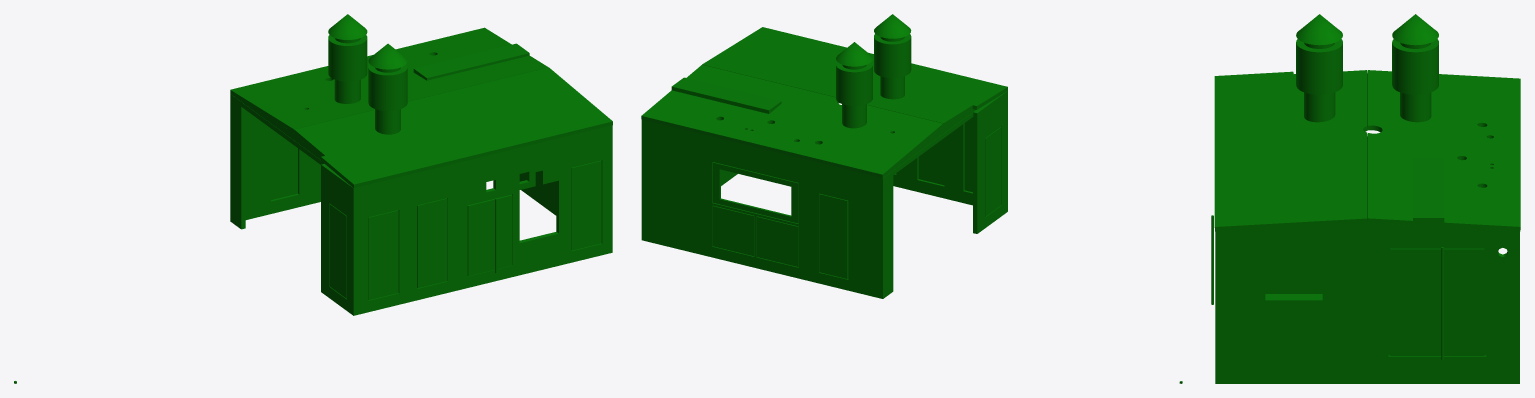
Rendered from Image-1710907725053-2280980356464_27-KA50ENCLOSURE_COMPRESSOR.fbx.
3 views of the same model, side by side, from view 1: azimuth 30°, elevation 25°; view 2: azimuth 150°, elevation 25°; view 3: azimuth 270°, elevation 25° (orthographic). The views are drawn at different scales.
Visible parts, largest first — view 1: BOX 8 of SUBEQUIPMENT /27-KA50/ENCLOSURE_WALLS, BOX 13 of SUBEQUIPMENT /27-KA50/ENCLOSURE_WALLS, BOX 12 of SUBEQUIPMENT /27-KA50/ENCLOSURE_WALLS, BOX 7 of SUBEQUIPMENT /27-KA50/ENCLOSURE_WALLS, BOX 21 of SUBEQUIPMENT /27-KA50/ENCLOSURE_WALLS, BOX 6 of SUBEQUIPMENT /27-KA50/ENCLOSURE_WALLS, BOX 19 of SUBEQUIPMENT /27-KA50/ENCLOSURE_WALLS, BOX 18 of SUBEQUIPMENT /27-KA50/ENCLOSURE_WALLS, BOX 20 of SUBEQUIPMENT /27-KA50/ENCLOSURE_WALLS, BOX 9 of SUBEQUIPMENT /27-KA50/ENCLOSURE_WALLS, BOX 5 of SUBEQUIPMENT /27-KA50/ENCLOSURE_WALLS, CYLINDER 3 of SUBEQUIPMENT /27-KA50/ENCLOSURE_FAN2 (+9 smaller); view 2: BOX 7 of SUBEQUIPMENT /27-KA50/ENCLOSURE_WALLS, BOX 12 of SUBEQUIPMENT /27-KA50/ENCLOSURE_WALLS, BOX 13 of SUBEQUIPMENT /27-KA50/ENCLOSURE_WALLS, BOX 8 of SUBEQUIPMENT /27-KA50/ENCLOSURE_WALLS, BOX 6 of SUBEQUIPMENT /27-KA50/ENCLOSURE_WALLS, BOX 17 of SUBEQUIPMENT /27-KA50/ENCLOSURE_WALLS, BOX 9 of SUBEQUIPMENT /27-KA50/ENCLOSURE_WALLS, BOX 14 of SUBEQUIPMENT /27-KA50/ENCLOSURE_WALLS, BOX 16 of SUBEQUIPMENT /27-KA50/ENCLOSURE_WALLS, BOX 5 of SUBEQUIPMENT /27-KA50/ENCLOSURE_WALLS, BOX 15 of SUBEQUIPMENT /27-KA50/ENCLOSURE_WALLS, CYLINDER 3 of SUBEQUIPMENT /27-KA50/ENCLOSURE_FAN2 (+10 smaller); view 3: BOX 1 of SUBEQUIPMENT /27-KA50/ENCLOSURE_WALLS, BOX 13 of SUBEQUIPMENT /27-KA50/ENCLOSURE_WALLS, BOX 12 of SUBEQUIPMENT /27-KA50/ENCLOSURE_WALLS, BOX 2 of SUBEQUIPMENT /27-KA50/ENCLOSURE_WALLS, BOX 4 of SUBEQUIPMENT /27-KA50/ENCLOSURE_WALLS, CYLINDER 3 of SUBEQUIPMENT /27-KA50/ENCLOSURE_FAN, CYLINDER 3 of SUBEQUIPMENT /27-KA50/ENCLOSURE_FAN2, BOX 5 of SUBEQUIPMENT /27-KA50/ENCLOSURE_WALLS, PYRAMID 2 of SUBEQUIPMENT /27-KA50/ENCLOSURE_WALLS, CONE 1 of SUBEQUIPMENT /27-KA50/ENCLOSURE_FAN, CONE 1 of SUBEQUIPMENT /27-KA50/ENCLOSURE_FAN2, CYLINDER 1 of SUBEQUIPMENT /27-KA50/ENCLOSURE_FAN (+4 smaller).
Part boxes in pixels (left/top/right/bottom): BOX 8 of SUBEQUIPMENT /27-KA50/ENCLOSURE_WALLS: left=351, top=126, right=612, bottom=315; BOX 13 of SUBEQUIPMENT /27-KA50/ENCLOSURE_WALLS: left=294, top=67, right=612, bottom=188; BOX 12 of SUBEQUIPMENT /27-KA50/ENCLOSURE_WALLS: left=230, top=27, right=548, bottom=132; BOX 7 of SUBEQUIPMENT /27-KA50/ENCLOSURE_WALLS: left=245, top=110, right=320, bottom=219; BOX 21 of SUBEQUIPMENT /27-KA50/ENCLOSURE_WALLS: left=467, top=194, right=512, bottom=276; BOX 6 of SUBEQUIPMENT /27-KA50/ENCLOSURE_WALLS: left=321, top=169, right=357, bottom=315; BOX 19 of SUBEQUIPMENT /27-KA50/ENCLOSURE_WALLS: left=417, top=198, right=447, bottom=288; BOX 18 of SUBEQUIPMENT /27-KA50/ENCLOSURE_WALLS: left=368, top=210, right=398, bottom=299; BOX 20 of SUBEQUIPMENT /27-KA50/ENCLOSURE_WALLS: left=571, top=160, right=601, bottom=250; BOX 9 of SUBEQUIPMENT /27-KA50/ENCLOSURE_WALLS: left=230, top=99, right=245, bottom=229; BOX 5 of SUBEQUIPMENT /27-KA50/ENCLOSURE_WALLS: left=413, top=43, right=529, bottom=80; CYLINDER 3 of SUBEQUIPMENT /27-KA50/ENCLOSURE_FAN2: left=368, top=64, right=407, bottom=110; BOX 7 of SUBEQUIPMENT /27-KA50/ENCLOSURE_WALLS: left=641, top=120, right=882, bottom=297; BOX 12 of SUBEQUIPMENT /27-KA50/ENCLOSURE_WALLS: left=641, top=65, right=943, bottom=178; BOX 13 of SUBEQUIPMENT /27-KA50/ENCLOSURE_WALLS: left=702, top=27, right=1007, bottom=126; BOX 8 of SUBEQUIPMENT /27-KA50/ENCLOSURE_WALLS: left=893, top=91, right=1007, bottom=212; BOX 6 of SUBEQUIPMENT /27-KA50/ENCLOSURE_WALLS: left=973, top=96, right=1007, bottom=233; BOX 17 of SUBEQUIPMENT /27-KA50/ENCLOSURE_WALLS: left=819, top=194, right=848, bottom=278; BOX 9 of SUBEQUIPMENT /27-KA50/ENCLOSURE_WALLS: left=878, top=175, right=893, bottom=298; BOX 14 of SUBEQUIPMENT /27-KA50/ENCLOSURE_WALLS: left=712, top=205, right=754, bottom=256; BOX 16 of SUBEQUIPMENT /27-KA50/ENCLOSURE_WALLS: left=757, top=216, right=798, bottom=266; BOX 5 of SUBEQUIPMENT /27-KA50/ENCLOSURE_WALLS: left=671, top=77, right=781, bottom=113; BOX 15 of SUBEQUIPMENT /27-KA50/ENCLOSURE_WALLS: left=713, top=162, right=798, bottom=223; CYLINDER 3 of SUBEQUIPMENT /27-KA50/ENCLOSURE_FAN2: left=874, top=34, right=911, bottom=77; BOX 1 of SUBEQUIPMENT /27-KA50/ENCLOSURE_WALLS: left=1215, top=231, right=1519, bottom=383; BOX 13 of SUBEQUIPMENT /27-KA50/ENCLOSURE_WALLS: left=1214, top=70, right=1367, bottom=231; BOX 12 of SUBEQUIPMENT /27-KA50/ENCLOSURE_WALLS: left=1367, top=70, right=1520, bottom=231; BOX 2 of SUBEQUIPMENT /27-KA50/ENCLOSURE_WALLS: left=1390, top=248, right=1484, bottom=355; BOX 4 of SUBEQUIPMENT /27-KA50/ENCLOSURE_WALLS: left=1265, top=294, right=1322, bottom=361; CYLINDER 3 of SUBEQUIPMENT /27-KA50/ENCLOSURE_FAN: left=1392, top=39, right=1438, bottom=94; CYLINDER 3 of SUBEQUIPMENT /27-KA50/ENCLOSURE_FAN2: left=1296, top=39, right=1342, bottom=94; BOX 5 of SUBEQUIPMENT /27-KA50/ENCLOSURE_WALLS: left=1413, top=158, right=1444, bottom=223; PYRAMID 2 of SUBEQUIPMENT /27-KA50/ENCLOSURE_WALLS: left=1220, top=223, right=1516, bottom=231; CONE 1 of SUBEQUIPMENT /27-KA50/ENCLOSURE_FAN: left=1392, top=14, right=1438, bottom=45; CONE 1 of SUBEQUIPMENT /27-KA50/ENCLOSURE_FAN2: left=1296, top=14, right=1342, bottom=45; CYLINDER 1 of SUBEQUIPMENT /27-KA50/ENCLOSURE_FAN: left=1400, top=92, right=1431, bottom=122.
Bounding box in the file's own units: 14.04 × 5.93 × 7.13.
